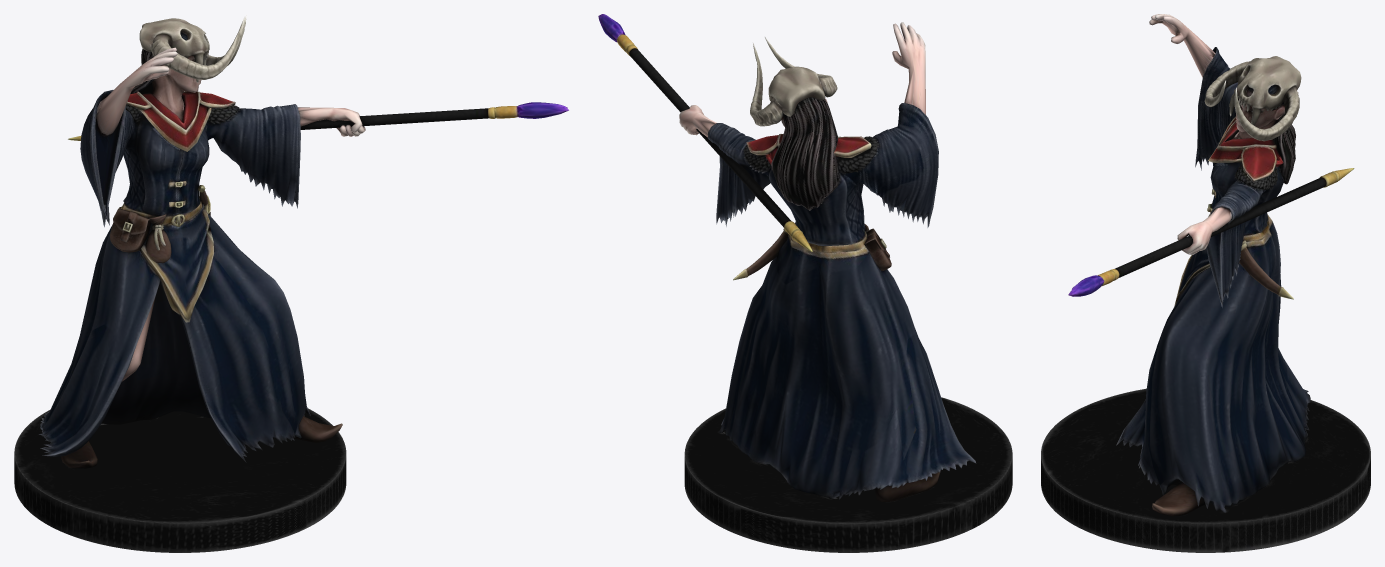
File: MZ4250 - Human Warlock (Skylla).glb
3 renders of one model, left to right at view 1: azimuth 30°, elevation 25°; view 2: azimuth 150°, elevation 25°; view 3: azimuth 270°, elevation 25°, orthographic.
Visible parts, largest first — view 1: body_low.001, base_low.001, helm_low.001, staff_low.001, pouch_low.001; view 2: body_low.001, base_low.001, helm_low.001, staff_low.001, pouch_low.001, dagger_low.001; view 3: body_low.001, base_low.001, helm_low.001, staff_low.001, dagger_low.001.
Boxes of the visible parts, left/top/right/bottom form: body_low.001: left=39, top=32, right=365, bottom=468; base_low.001: left=14, top=408, right=346, bottom=552; helm_low.001: left=139, top=14, right=246, bottom=82; staff_low.001: left=68, top=102, right=568, bottom=140; pouch_low.001: left=110, top=208, right=171, bottom=263; body_low.001: left=679, top=22, right=976, bottom=501; base_low.001: left=684, top=397, right=1012, bottom=552; helm_low.001: left=750, top=37, right=837, bottom=126; staff_low.001: left=598, top=14, right=812, bottom=251; pouch_low.001: left=864, top=224, right=891, bottom=270; dagger_low.001: left=733, top=222, right=795, bottom=280; body_low.001: left=1116, top=14, right=1310, bottom=516; base_low.001: left=1041, top=388, right=1370, bottom=552; helm_low.001: left=1204, top=56, right=1301, bottom=141; staff_low.001: left=1068, top=168, right=1354, bottom=296; dagger_low.001: left=1210, top=208, right=1293, bottom=299.
Bounding box in the file's own units: 6.5 × 6.11 × 4.03.
Materials: 1 (1 with a texture image).
